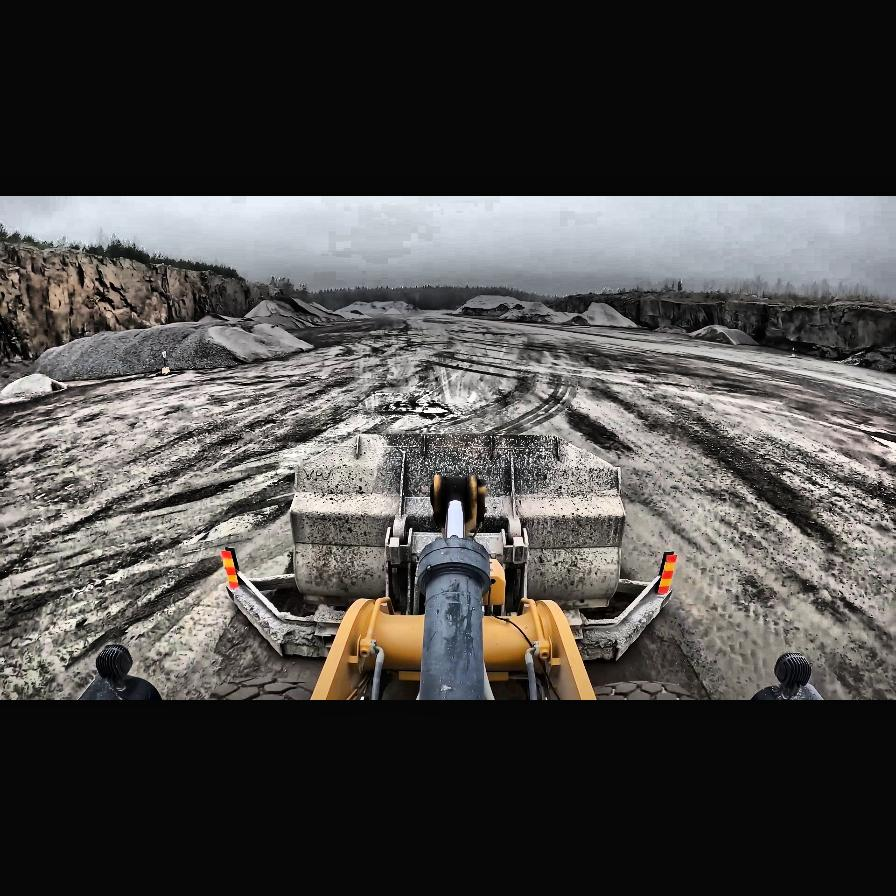anchor: (430, 474, 484, 536)
pile of gravel: (18, 321, 316, 383), (772, 305, 846, 353), (241, 297, 340, 327), (1, 372, 67, 400), (838, 346, 896, 372), (686, 325, 761, 345), (584, 301, 640, 327), (504, 300, 558, 322), (555, 292, 609, 314), (457, 294, 515, 308), (548, 311, 586, 325), (660, 325, 692, 335), (390, 300, 416, 312), (370, 301, 396, 309), (382, 308, 402, 314), (450, 307, 464, 315)
